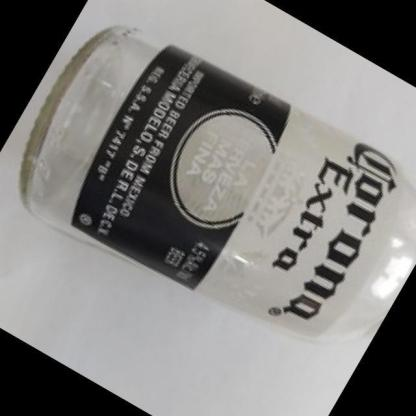Can: (19, 25, 416, 348)
